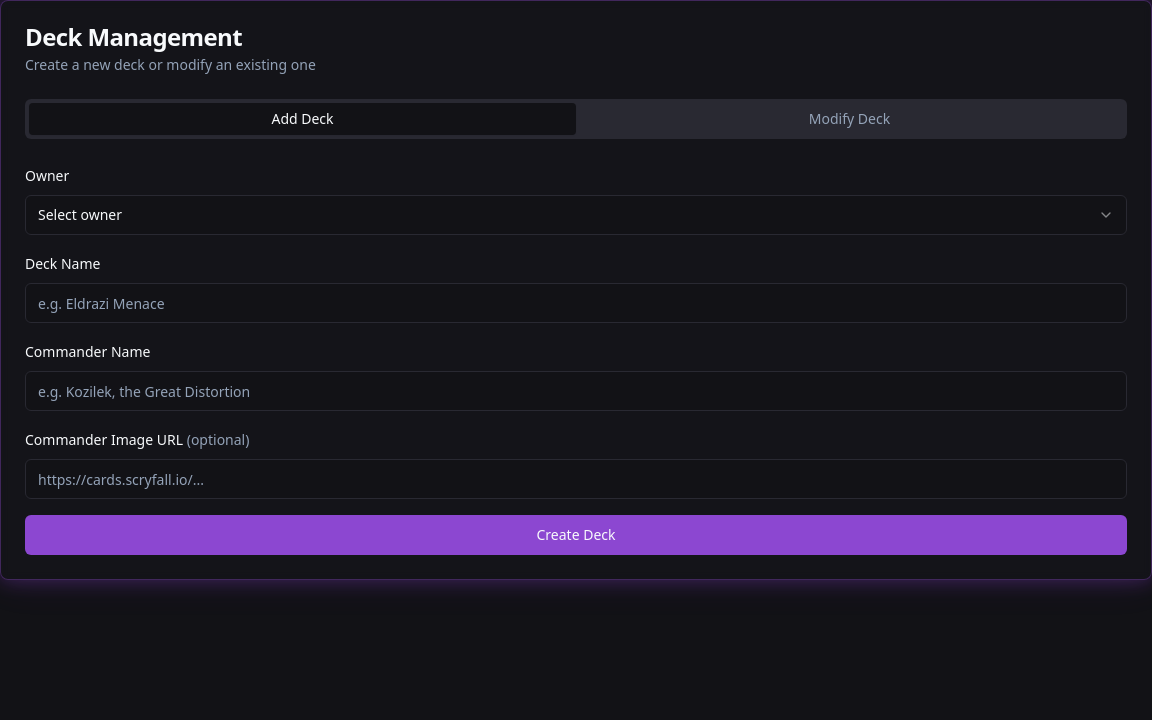
Test case: DeckManagementForm › offers a modify mode that requires selecting an existing deck
The image size is (1152, 720).
Press the mouse on the tab "Modify Deck": (850, 119) [576,103,1123,135]
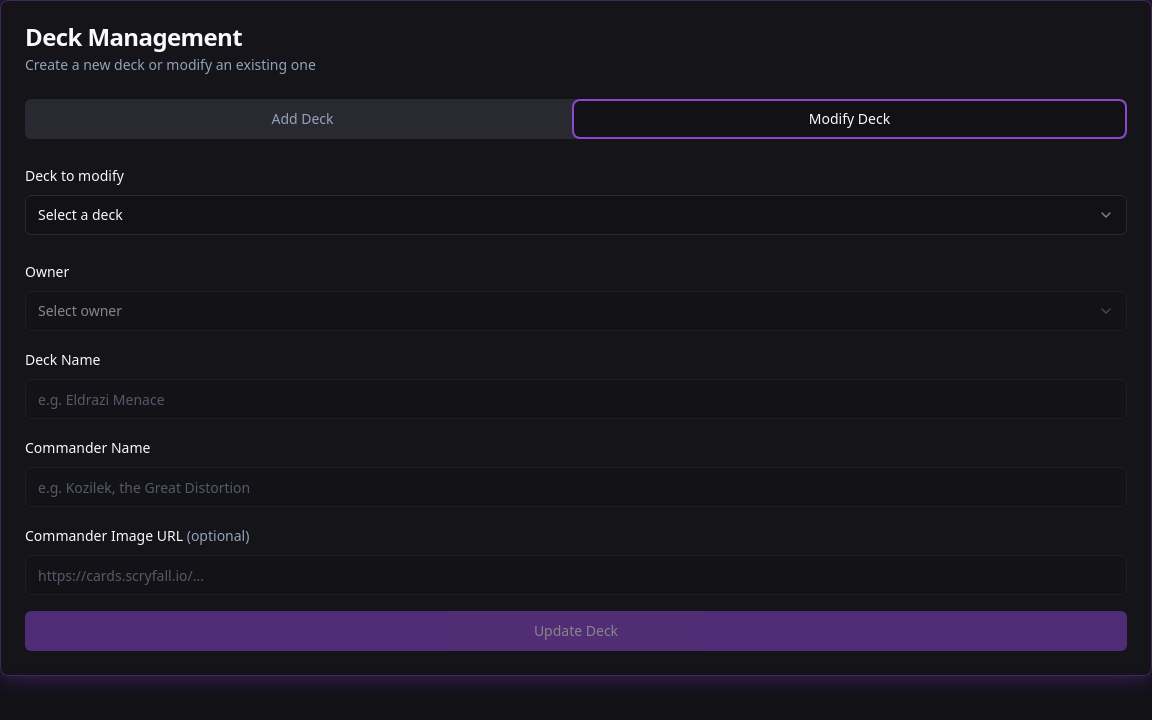
Now the text "Deck to modify" is shown, box [25,166,124,185]
Now the text "Select a deck" is shown, box [38,205,123,225]
Now the button "Update Deck" is disabled, box [25,611,1127,651]
